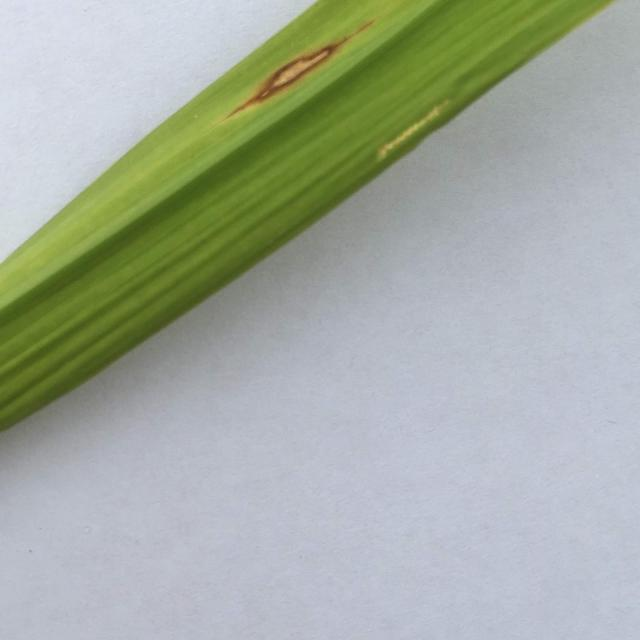Leaf_Blast: (207, 38, 414, 111)
